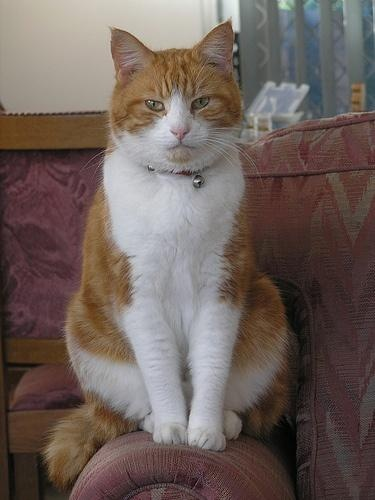cat: (43, 16, 300, 495)
